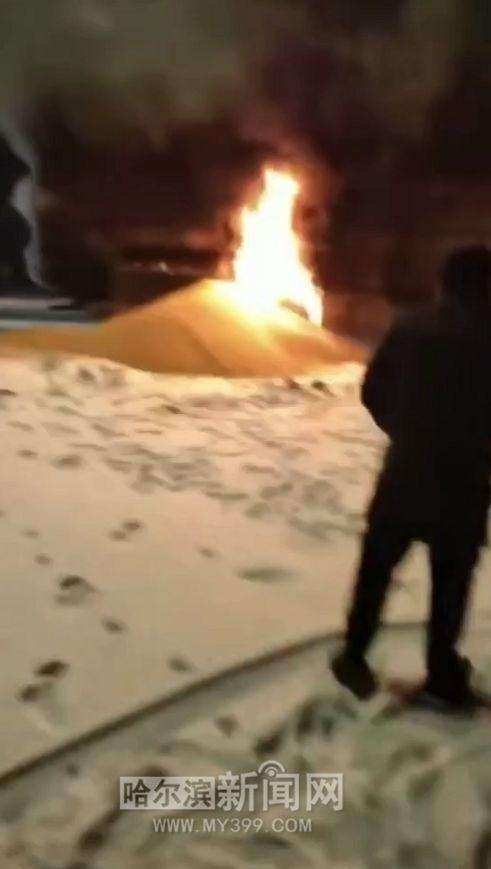fire: (215, 164, 324, 324)
